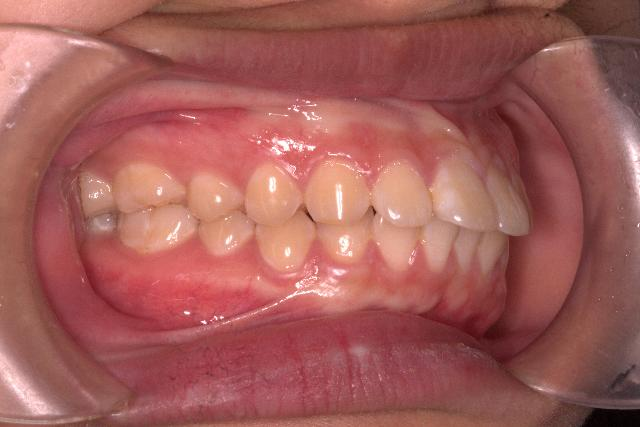canine class II 1/4: (244, 153, 372, 275)
molar class I: (112, 160, 198, 258)
